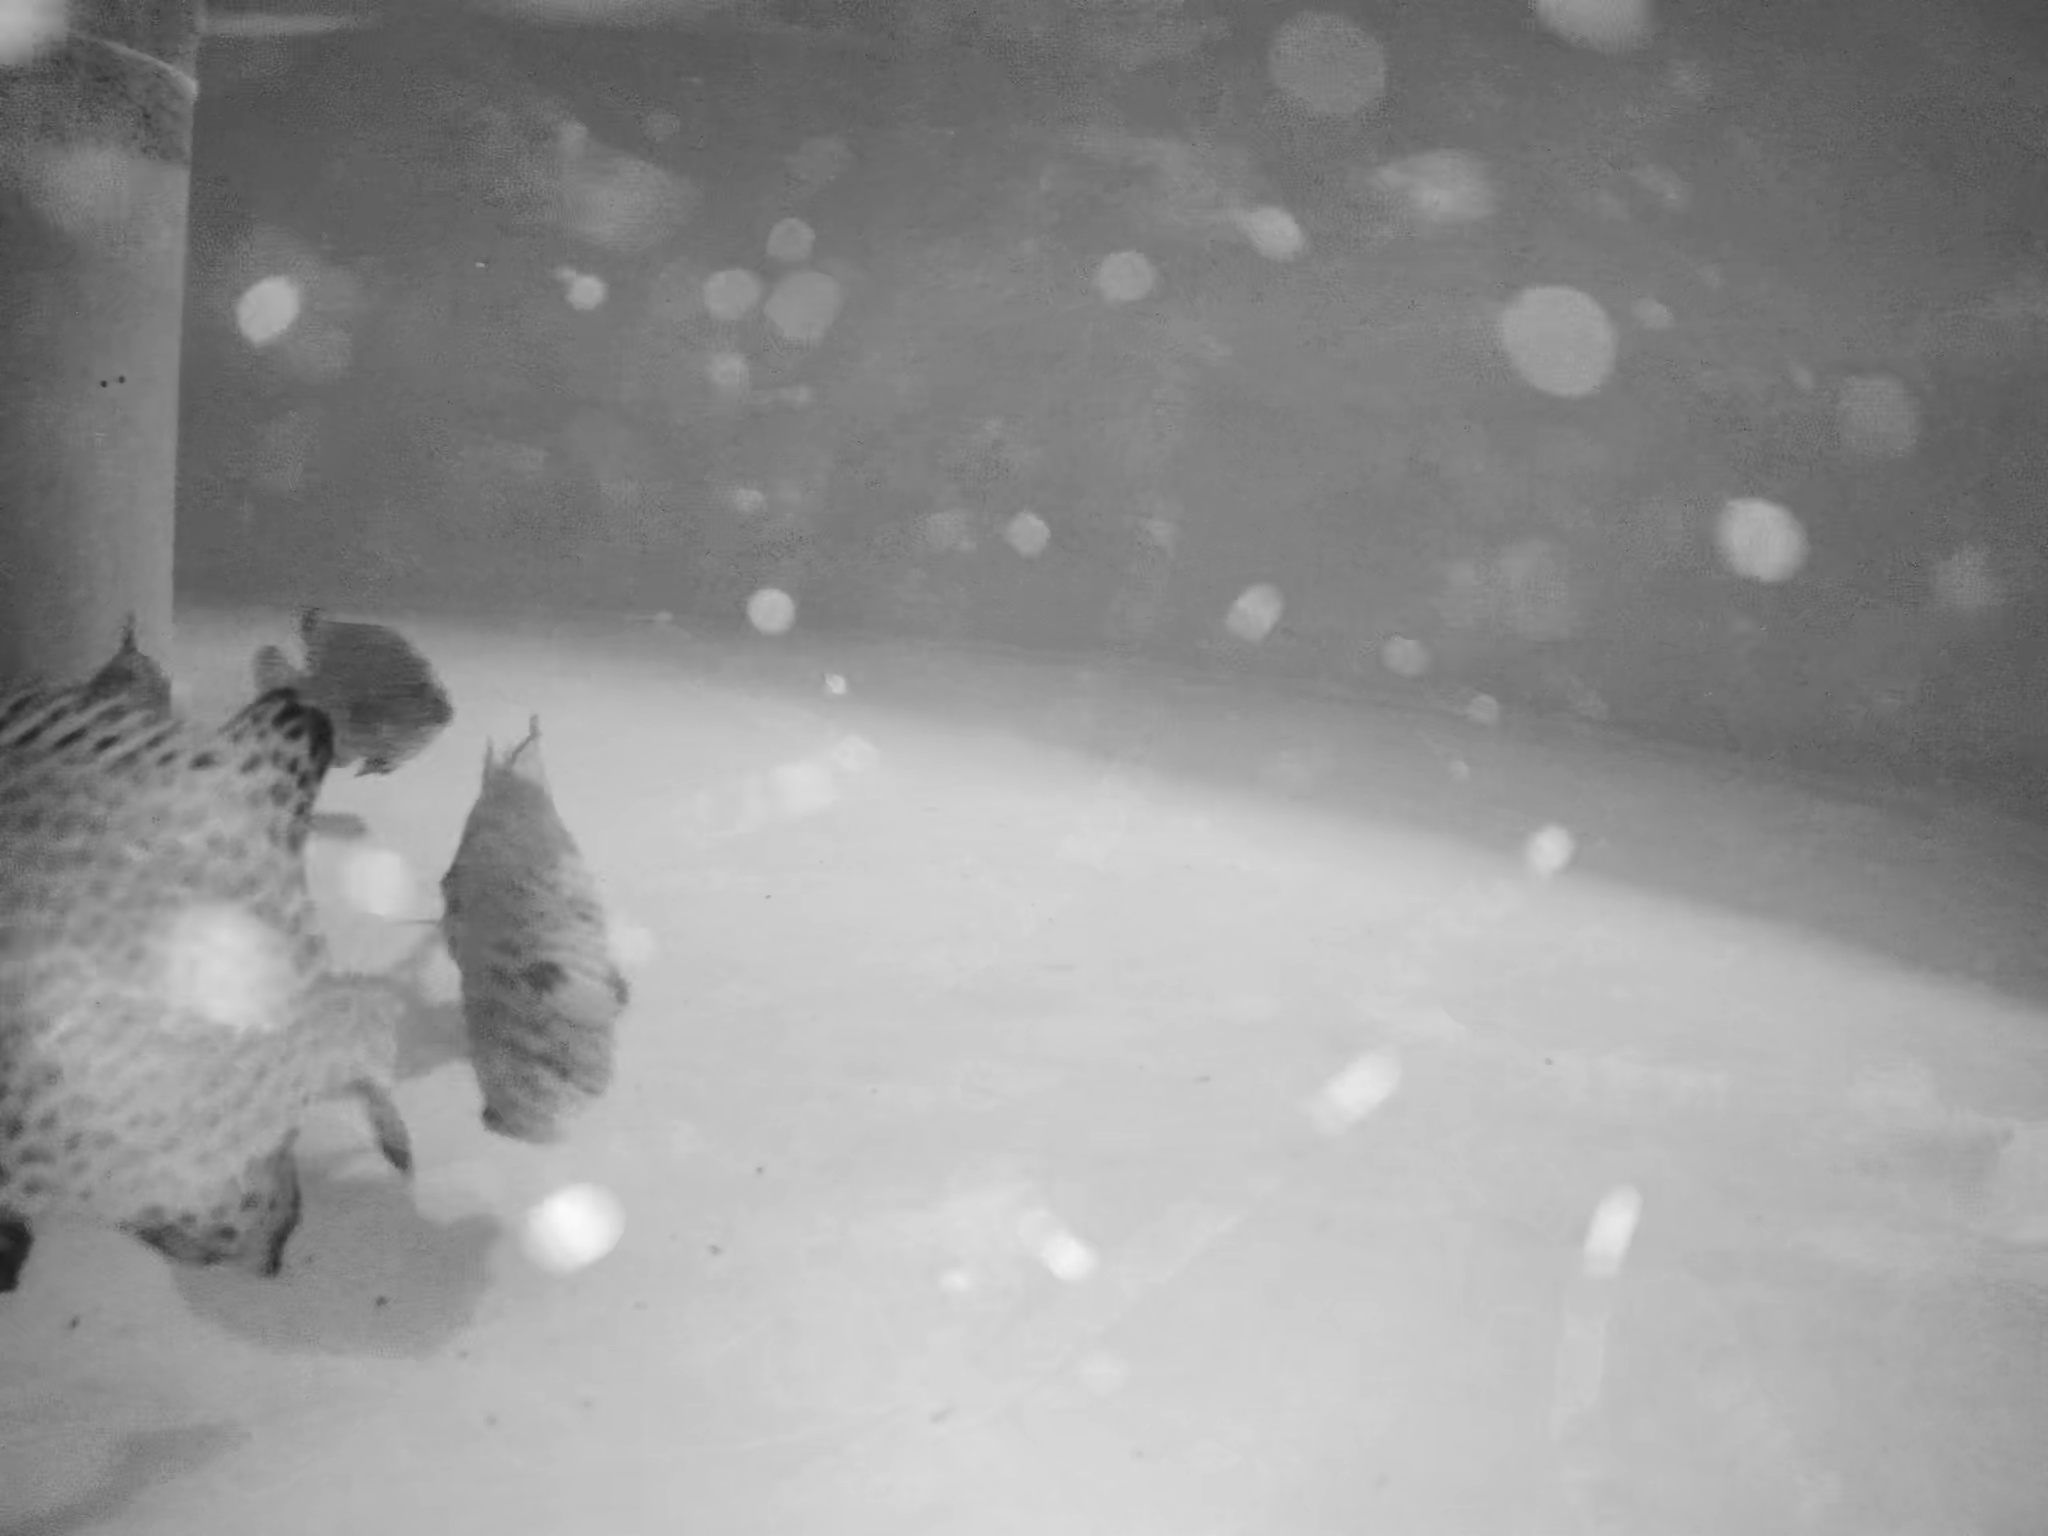fish: (3, 674, 423, 1205), (469, 752, 634, 1146), (250, 602, 466, 779), (158, 1084, 323, 1297)
